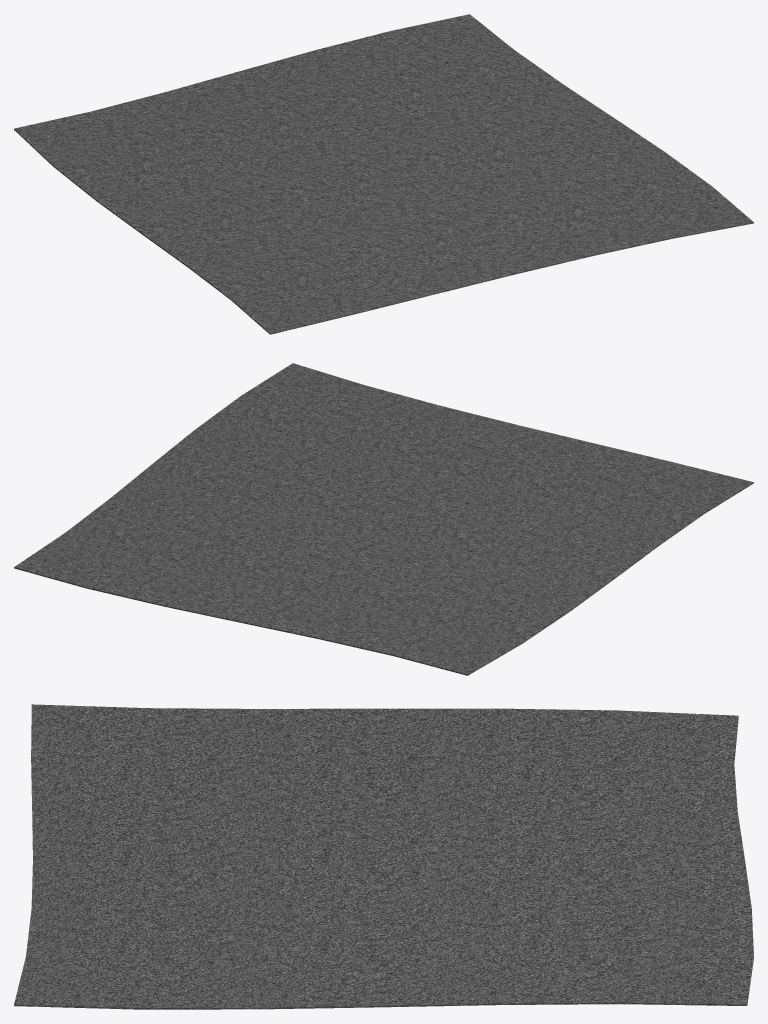
Rendered from Carpet.fbx.
3 views of the same model, one above another, from view 1: azimuth 30°, elevation 25°; view 2: azimuth 150°, elevation 25°; view 3: azimuth 270°, elevation 25° (orthographic). The views are drawn at different scales.
Visible parts, largest first — view 1: carpet; view 2: carpet; view 3: carpet.
Boxes of the visible parts, x1=… form: carpet: x1=14, y1=14, x2=753, y2=334; carpet: x1=14, y1=363, x2=753, y2=675; carpet: x1=14, y1=704, x2=753, y2=1009.
Size of the model in its own units: 111 by 115 by 1.38.
Materials: 1 (1 with a texture image).
